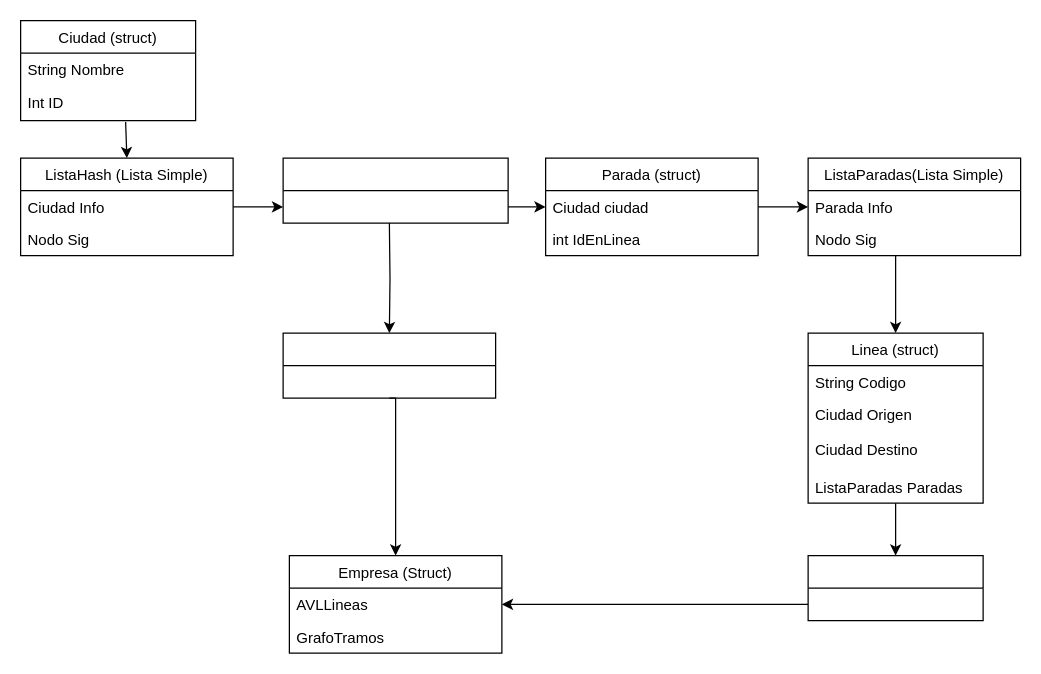
Some shapes in this 1041 by 674 pixel diagram are drawn without their labels. Here are the shapes that lost their labels. From the top down, the centre of each, then its label:
At point (395, 190): "DiccionarioCiudades(Hash)".
At point (389, 365): "GrafoTramos (Grafo)".
At point (895, 587): "AVLLineas (AVL)".
